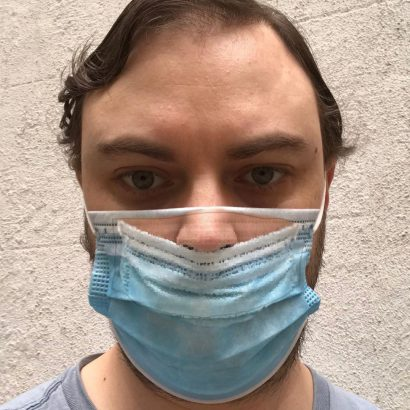with_incorrect_mask: (86, 131, 319, 406)
